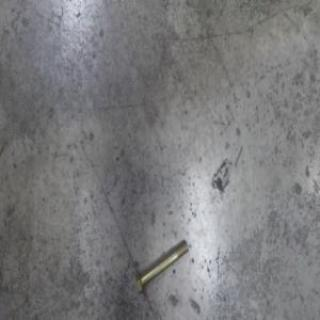Bolttrack_idkeyframe: (133, 238, 187, 298)
